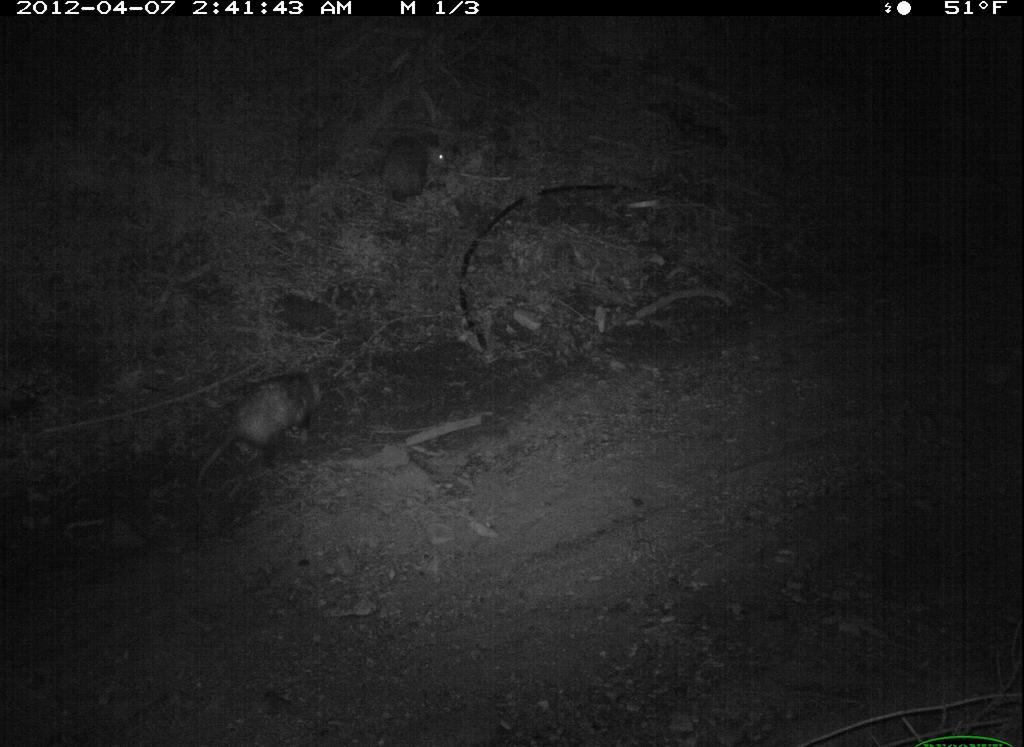opossum: (189, 360, 338, 515), (365, 118, 472, 217)
